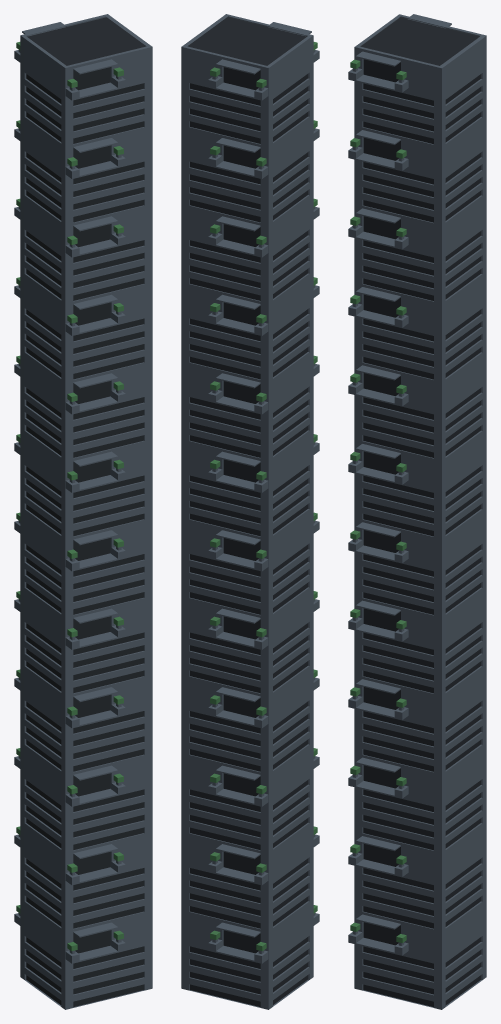
File: bg_block.fbx
3 views of the same model, side by side, from view 1: azimuth 30°, elevation 25°; view 2: azimuth 150°, elevation 25°; view 3: azimuth 330°, elevation 25° (orthographic).
Parts seen in each view (by area): view 1: Cube, Dış Cephe.034, Dış Cephe.003, Dış Cephe.010, Dış Cephe.012, Dış Cephe.028, Dış Cephe.030, Dış Cephe.036, Dış Cephe.007, Dış Cephe.016, Dış Cephe.018, Dış Cephe.022 (+26 smaller); view 2: Cube, Dış Cephe.034, Dış Cephe.003, Dış Cephe.010, Dış Cephe.028, Dış Cephe.030, Dış Cephe.036, Dış Cephe.007, Dış Cephe.012, Dış Cephe.016, Dış Cephe.022, Dış Cephe.018 (+26 smaller); view 3: Cube, Dış Cephe.033, Dış Cephe.002, Dış Cephe.021, Dış Cephe.006, Dış Cephe.009, Dış Cephe.023, Dış Cephe.035, Dış Cephe.027, Dış Cephe.029, Dış Cephe.011, Dış Cephe.017 (+26 smaller).
Part boxes in pixels (x1=…): Cube: x1=26, y1=17, x2=146, y2=1006; Dış Cephe.034: x1=20, y1=35, x2=66, y2=146; Dış Cephe.003: x1=20, y1=899, x2=65, y2=1009; Dış Cephe.010: x1=20, y1=663, x2=65, y2=773; Dış Cephe.012: x1=20, y1=742, x2=65, y2=852; Dış Cephe.028: x1=20, y1=192, x2=65, y2=303; Dış Cephe.030: x1=20, y1=271, x2=65, y2=381; Dış Cephe.036: x1=20, y1=114, x2=65, y2=224; Dış Cephe.007: x1=20, y1=820, x2=65, y2=930; Dış Cephe.016: x1=20, y1=506, x2=65, y2=617; Dış Cephe.018: x1=20, y1=585, x2=65, y2=695; Dış Cephe.022: x1=20, y1=349, x2=65, y2=460; Cube: x1=187, y1=17, x2=307, y2=1006; Dış Cephe.034: x1=267, y1=35, x2=313, y2=146; Dış Cephe.003: x1=268, y1=899, x2=313, y2=1009; Dış Cephe.010: x1=268, y1=663, x2=313, y2=773; Dış Cephe.028: x1=268, y1=192, x2=313, y2=303; Dış Cephe.030: x1=268, y1=271, x2=313, y2=381; Dış Cephe.036: x1=268, y1=114, x2=313, y2=224; Dış Cephe.007: x1=268, y1=820, x2=313, y2=930; Dış Cephe.012: x1=268, y1=742, x2=313, y2=852; Dış Cephe.016: x1=268, y1=506, x2=313, y2=617; Dış Cephe.022: x1=268, y1=349, x2=313, y2=460; Dış Cephe.018: x1=268, y1=585, x2=313, y2=695; Cube: x1=361, y1=17, x2=480, y2=1006; Dış Cephe.033: x1=440, y1=35, x2=486, y2=146; Dış Cephe.002: x1=442, y1=899, x2=486, y2=1009; Dış Cephe.021: x1=442, y1=349, x2=486, y2=460; Dış Cephe.006: x1=442, y1=820, x2=486, y2=930; Dış Cephe.009: x1=442, y1=663, x2=486, y2=773; Dış Cephe.023: x1=442, y1=428, x2=486, y2=538; Dış Cephe.035: x1=442, y1=114, x2=486, y2=224; Dış Cephe.027: x1=442, y1=192, x2=486, y2=303; Dış Cephe.029: x1=442, y1=271, x2=486, y2=381; Dış Cephe.011: x1=442, y1=742, x2=486, y2=852; Dış Cephe.017: x1=442, y1=585, x2=486, y2=695.
Size of the model in its own units: 5941 by 61194 by 6776.
